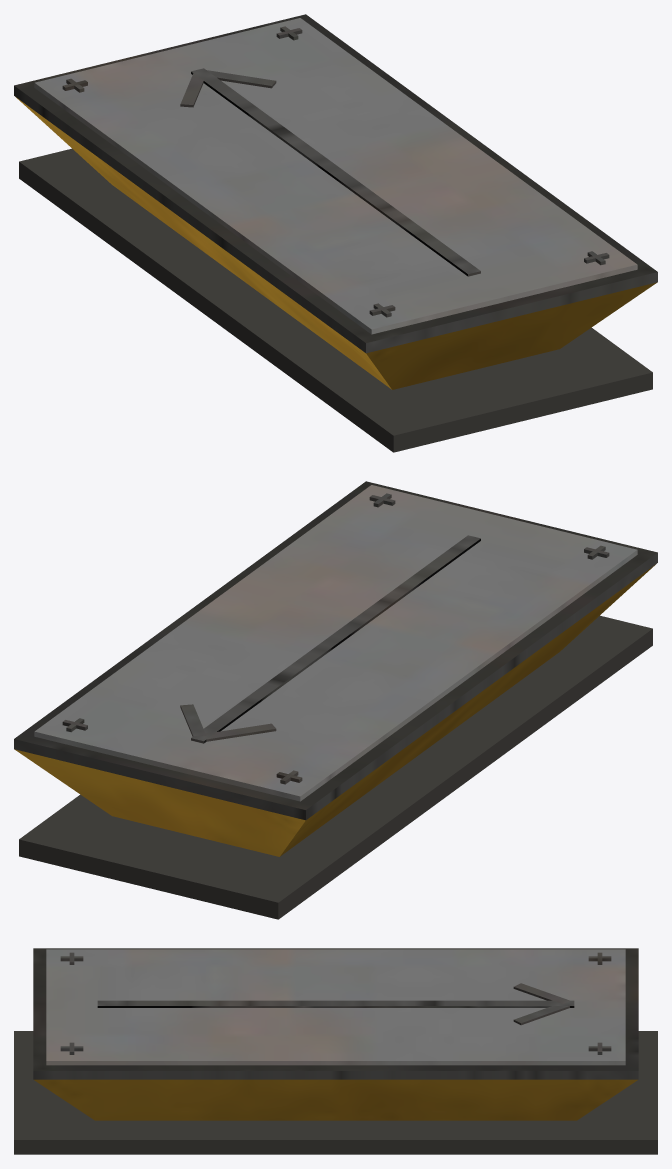
File: loader.glb
3 renders of one model, top to bottom at view 1: azimuth 30°, elevation 25°; view 2: azimuth 150°, elevation 25°; view 3: azimuth 270°, elevation 25°, orthographic. The views are drawn at different scales.
Parts seen in each view (by area): view 1: body; view 2: body; view 3: body.
Boxes of the visible parts, x1,y1,x2,y2 form: body: [14, 14, 657, 452]; body: [14, 481, 657, 919]; body: [14, 948, 657, 1154].
Bounding box in the file's own units: 0.9 × 0.335 × 2.
Materials: 3 (2 with a texture image).
